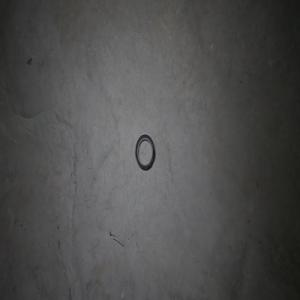Tape: (135, 133, 155, 170)
